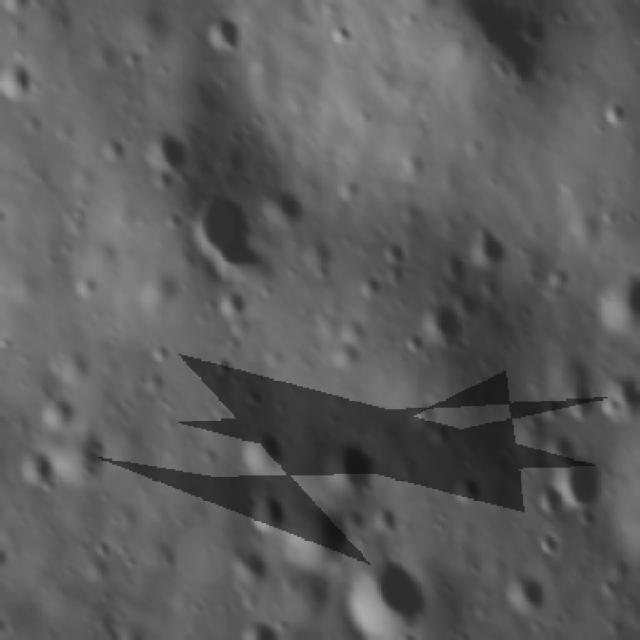crater: (348, 557, 438, 640), (185, 191, 269, 272), (296, 509, 364, 573), (558, 450, 614, 512), (139, 122, 203, 176), (587, 269, 640, 333), (325, 436, 377, 495), (201, 6, 250, 62), (416, 298, 472, 347), (16, 440, 61, 500), (238, 424, 288, 478), (504, 571, 554, 624), (467, 218, 516, 271), (264, 181, 308, 233), (604, 364, 640, 424), (0, 56, 37, 112), (247, 492, 288, 538), (231, 546, 275, 585), (40, 396, 80, 432), (533, 484, 569, 521), (540, 430, 578, 465), (216, 286, 249, 326), (328, 22, 362, 52), (237, 620, 283, 640), (603, 98, 632, 128), (0, 0, 37, 22), (518, 634, 582, 640), (398, 634, 424, 640)
